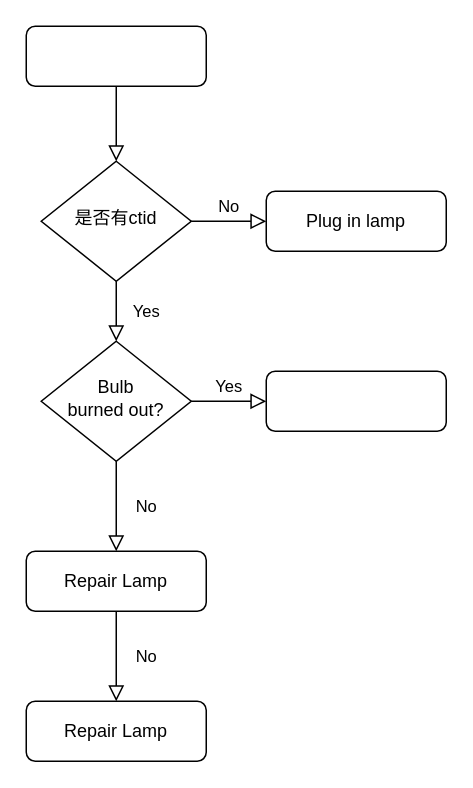
Some shapes in this 473 by 788 pixel diagram are drawn without their labels. Here are the shapes that lost their labels. From the top down, the box of each, then its label:
(25, 25, 206, 86): 【i东湖】小程序 一码通入口
(265, 370, 446, 431): Replace Bulb
